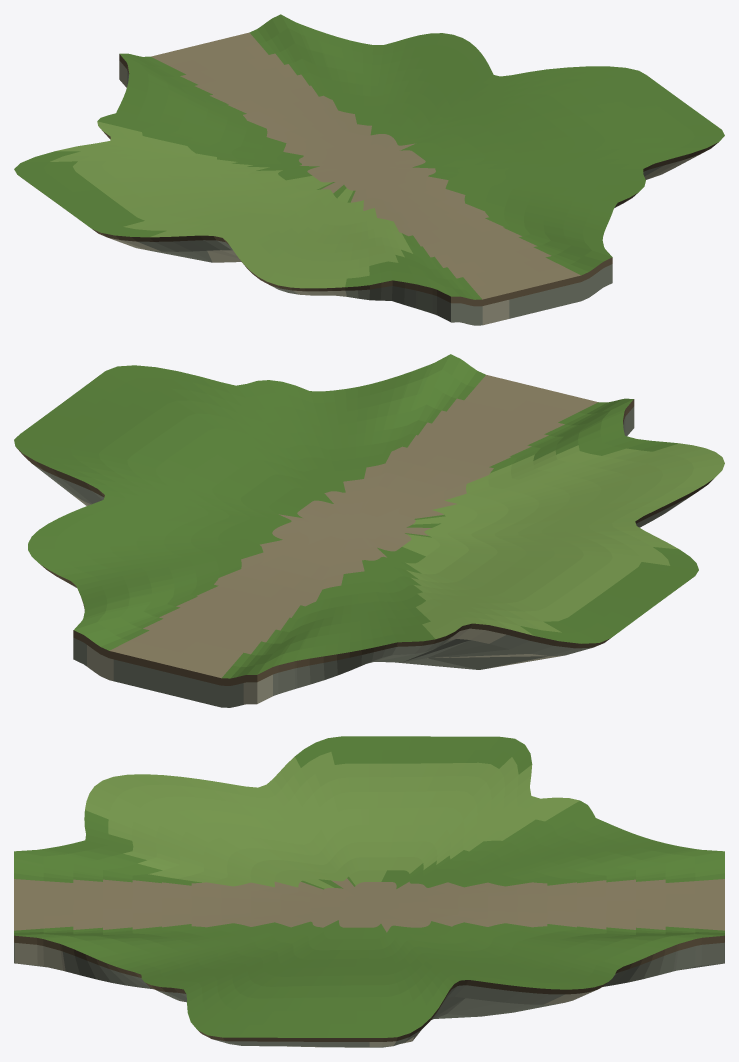
Rendered from path_narrow_pass_structure.fbx.
The picture shows the model from 3 angles, top to bottom: view 1: azimuth 30°, elevation 25°; view 2: azimuth 150°, elevation 25°; view 3: azimuth 270°, elevation 25°; orthographic projection. The views are drawn at different scales.
Visible parts, largest first — view 1: chunk_path_narrow_pass; view 2: chunk_path_narrow_pass; view 3: chunk_path_narrow_pass.
Part boxes in pixels (x1,y1,x2,y2): chunk_path_narrow_pass: (14, 14, 724, 325); chunk_path_narrow_pass: (14, 354, 724, 707); chunk_path_narrow_pass: (14, 736, 724, 1047).
Bounding box in the file's own units: 256 × 49.06 × 256.
